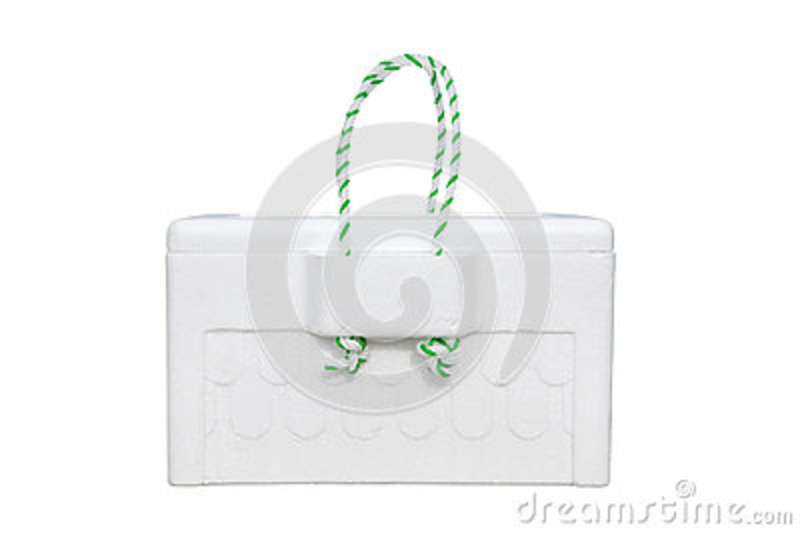Foam Box: (155, 48, 622, 492)
